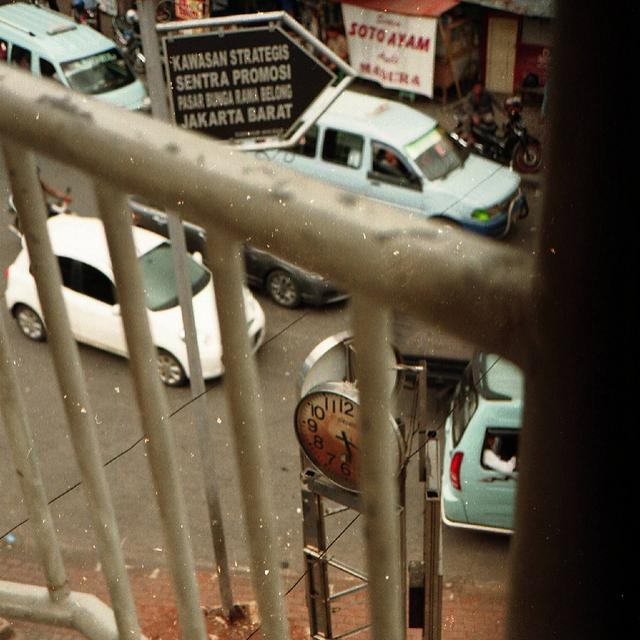motor: (465, 119, 543, 170), (5, 186, 74, 239)
